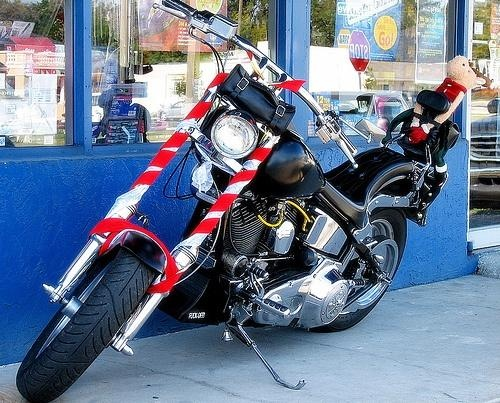motorbike: (17, 1, 461, 403)
